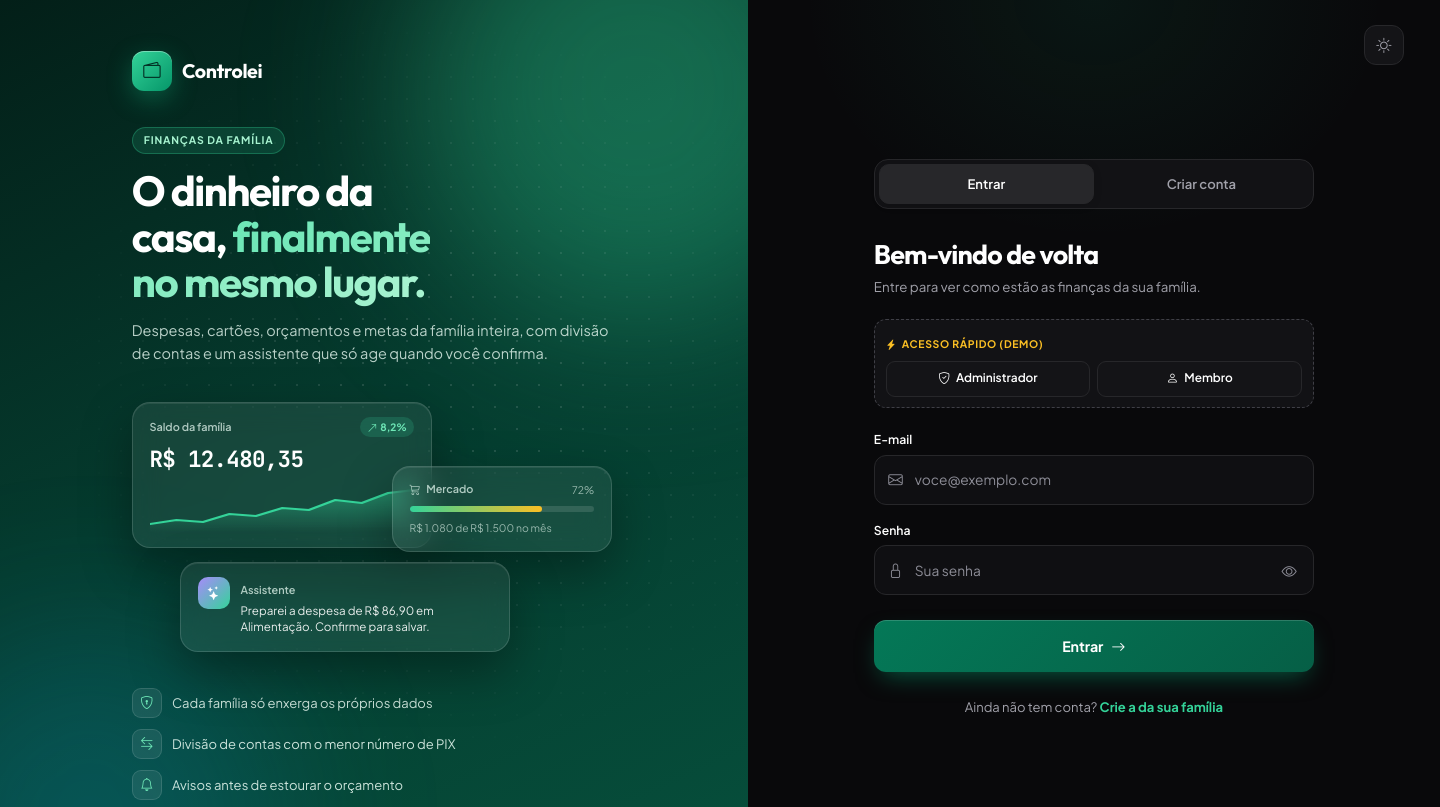
it: LoginComponent: experiencia da tela › troca entre entrar e criar conta pelas abas
The width and height of the screenshot is (1440, 807).
What coordinates should you click on to do the following:
click the tab with id "tab-register"
I would click on:
 (1201, 184)
Its box is x1=1094 y1=164 x2=1309 y2=204.
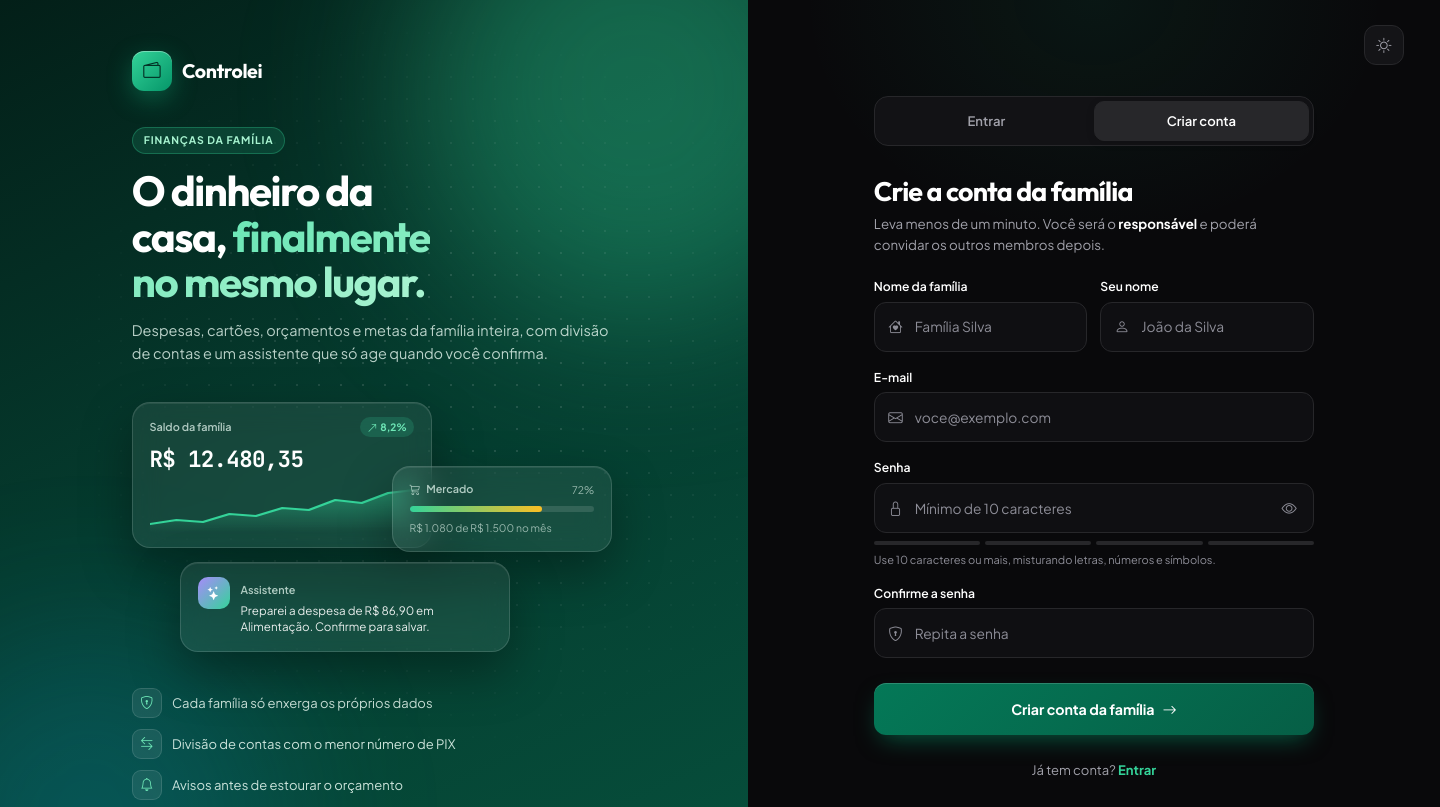
Result: the field with id "regFamily" is shown at x1=874 y1=302 x2=1087 y2=352
Result: the label with id "loginEmail" is gone
